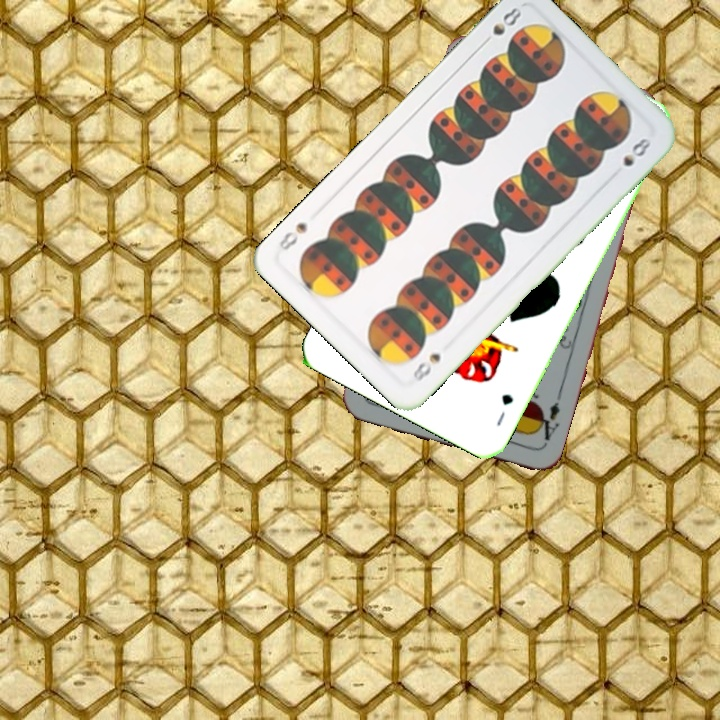EA: (531, 398, 563, 448)
GU: (492, 389, 516, 429)
S8: (477, 3, 525, 50), (409, 349, 444, 385)
